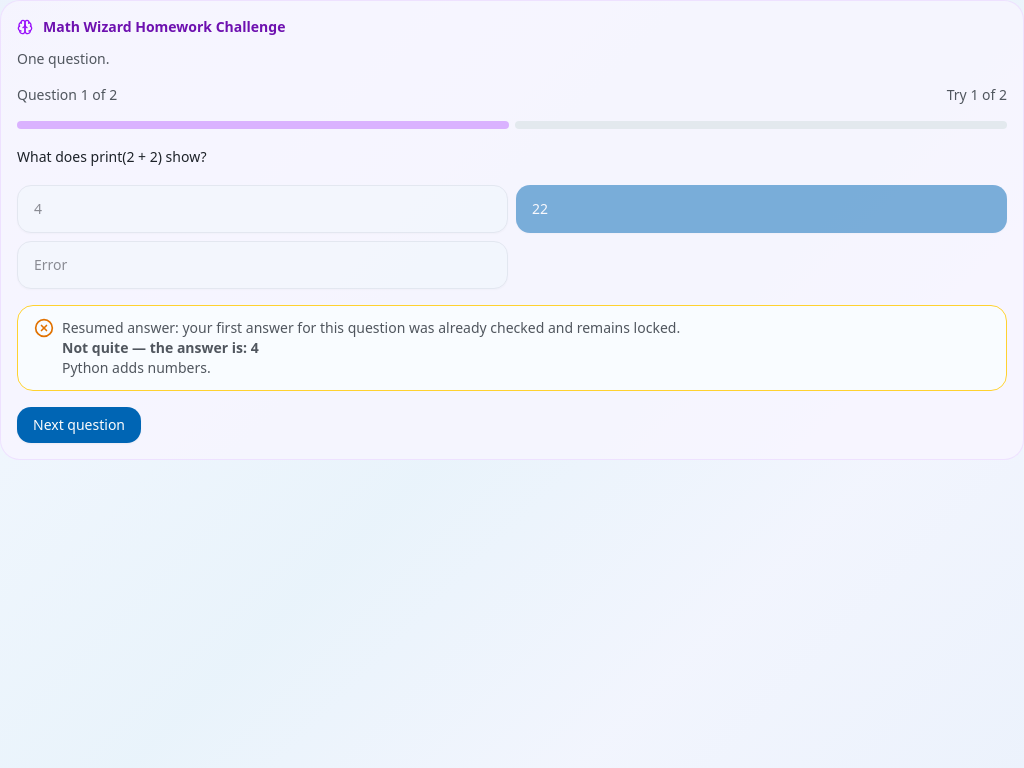
QuickCheck › resumes a checked answer after a reload without regrading a new choice
Expected: the text "Resumed answer" is shown, [62,318,680,337]
Expected: the text "Not quite — the answer is: 4" is shown, [62,338,259,357]
What coordinates should you click on to do the following:
click the button "Next question"
I would click on:
 (79, 425)
Its box is [17,407,141,443].
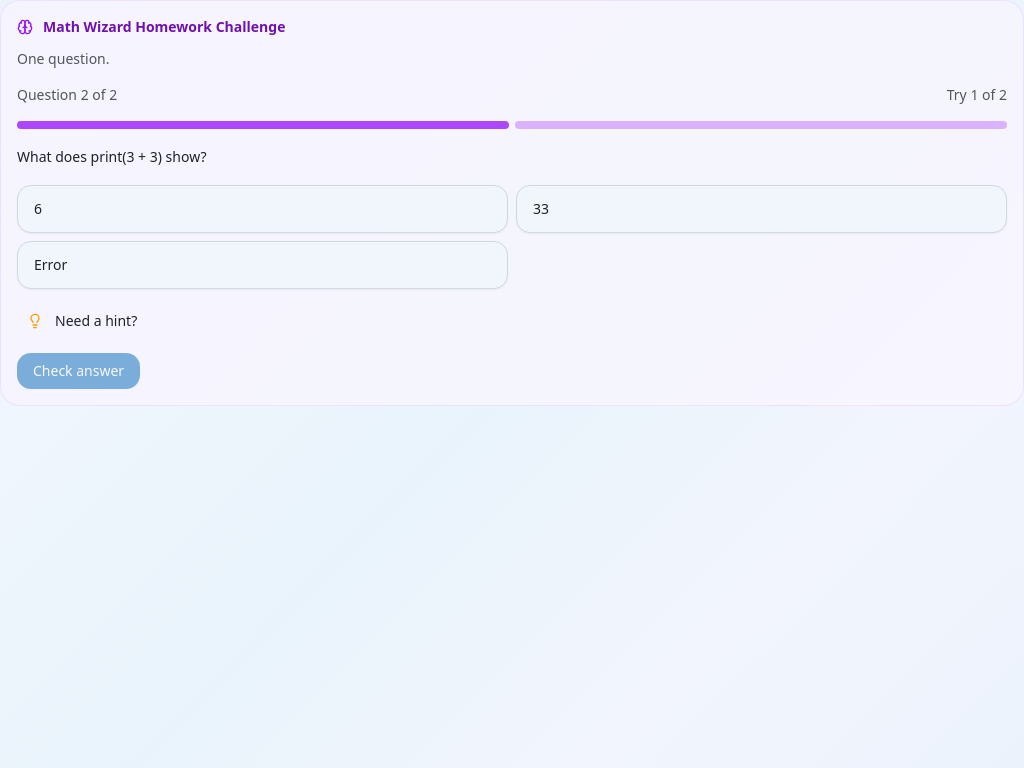
Result: the text "Question 2 of 2" is shown at [17,85,117,105]
Result: the text "What does print(3 + 3) show?" is shown at [17,147,206,166]
